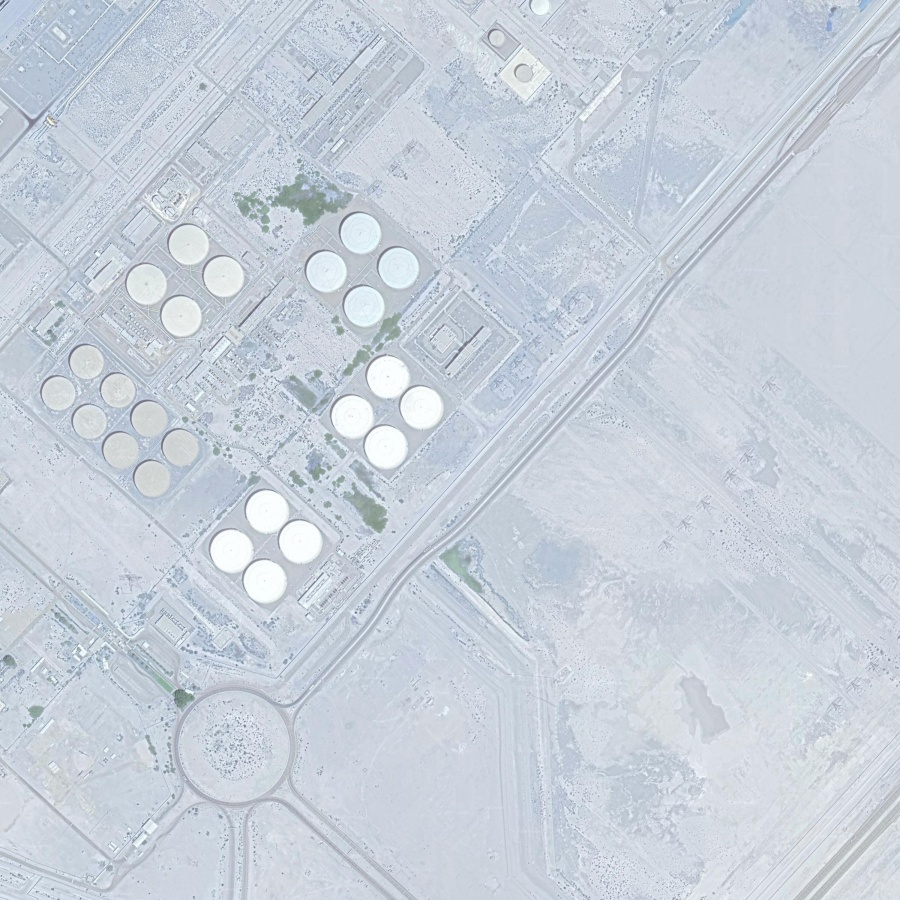PowerPlant: (31, 163, 481, 623)
